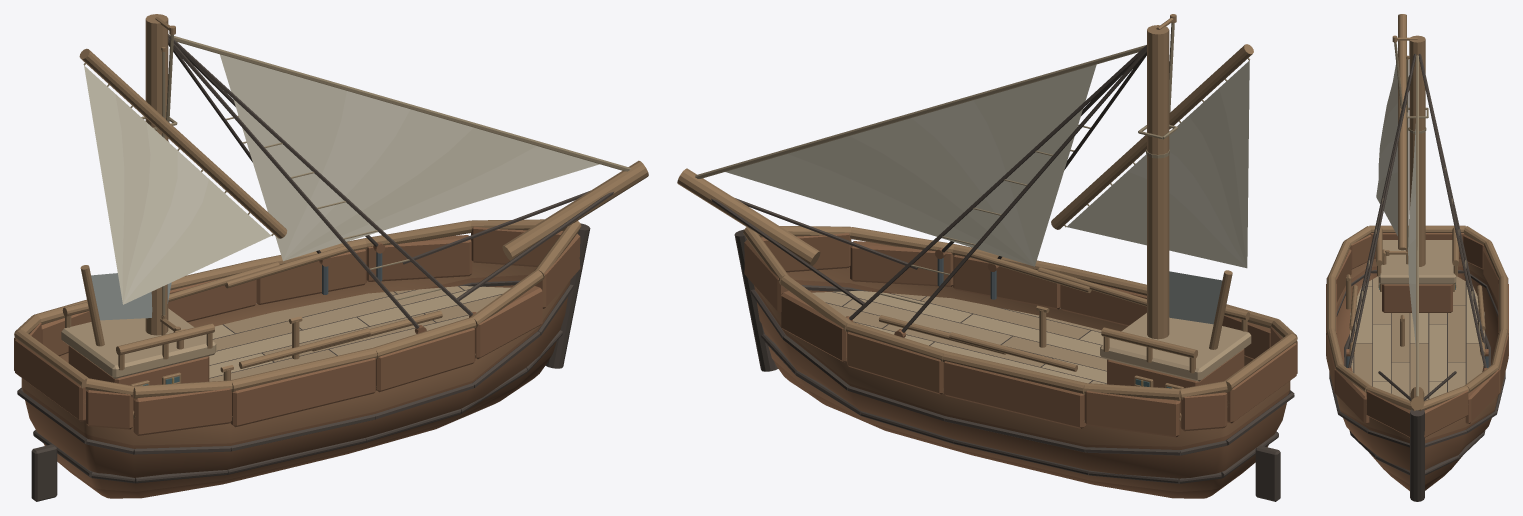
The model's file is cutter.glb.
The picture shows the model from 3 angles, left to right: view 1: azimuth 30°, elevation 25°; view 2: azimuth 150°, elevation 25°; view 3: azimuth 270°, elevation 25°; orthographic projection. The views are drawn at different scales.
Parts seen in each view (by area): view 1: Hull, Sail_mast0_jib_jib, Sail_mast0_main, Rig_mast0, OwnerFlag; view 2: Hull, Sail_mast0_jib_jib, Sail_mast0_main, Rig_mast0, OwnerFlag; view 3: Hull, Rig_mast0, Sail_mast0_main, Sail_mast0_jib_jib.
Part boxes in pixels (<box>): Hull: <box>14,14,648,501</box>; Sail_mast0_jib_jib: <box>220,54,599,261</box>; Sail_mast0_main: <box>84,65,271,304</box>; Rig_mast0: <box>79,17,287,331</box>; OwnerFlag: <box>91,273,171,320</box>; Hull: <box>677,25,1297,501</box>; Sail_mast0_jib_jib: <box>725,64,1096,266</box>; Sail_mast0_main: <box>1067,60,1249,268</box>; Rig_mast0: <box>1051,14,1253,229</box>; OwnerFlag: <box>1169,271,1222,324</box>; Hull: <box>1326,35,1508,501</box>; Rig_mast0: <box>1385,14,1428,255</box>; Sail_mast0_main: <box>1376,63,1397,235</box>; Sail_mast0_jib_jib: <box>1408,124,1415,346</box>.
Size of the model in its own units: 136 by 96.7 by 48.8.
